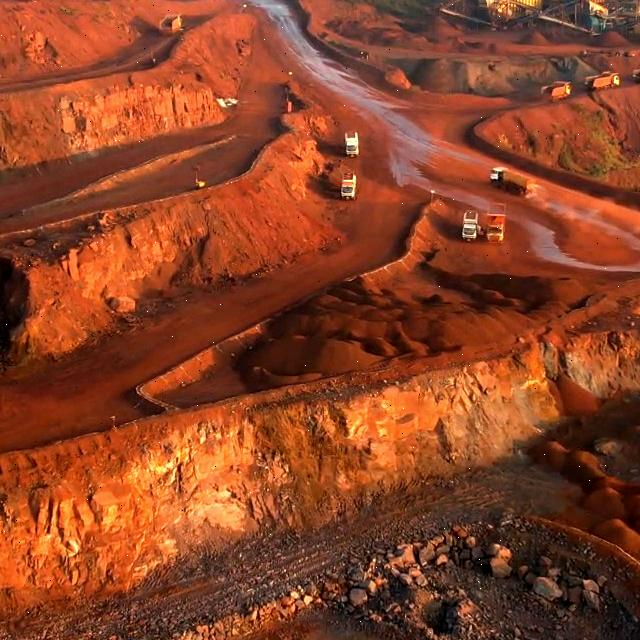Dumper truck: (589, 71, 620, 87), (544, 81, 571, 99)
car: (341, 173, 356, 202), (344, 132, 358, 157)
